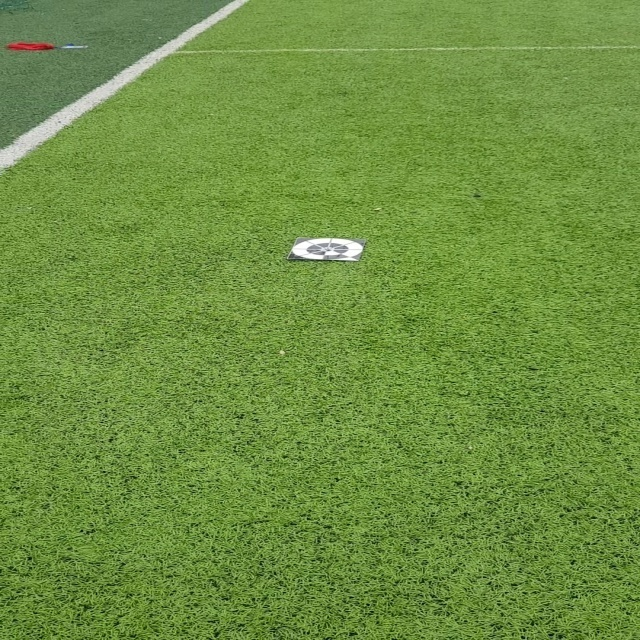landing-zone: (284, 238, 370, 265)
